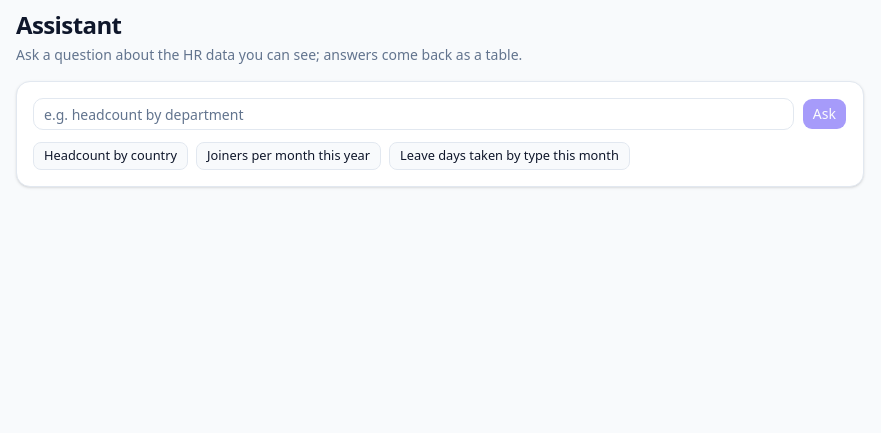
Test: AssistantPage › marks cached and truncated answers
The width and height of the screenshot is (881, 433).
Step 1. Type "headcount by country" into the field named "Question" → (413, 114), box x1=33 y1=98 x2=794 y2=130
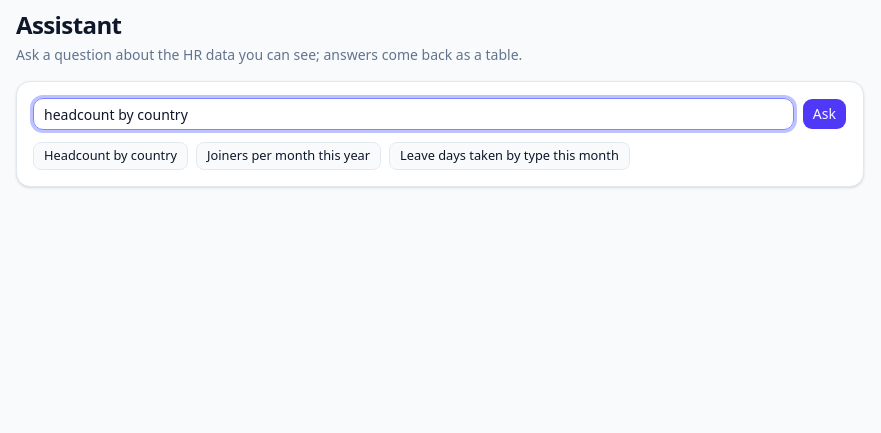
Step 2. Click the button "Ask" → (824, 114), box x1=802 y1=98 x2=847 y2=130
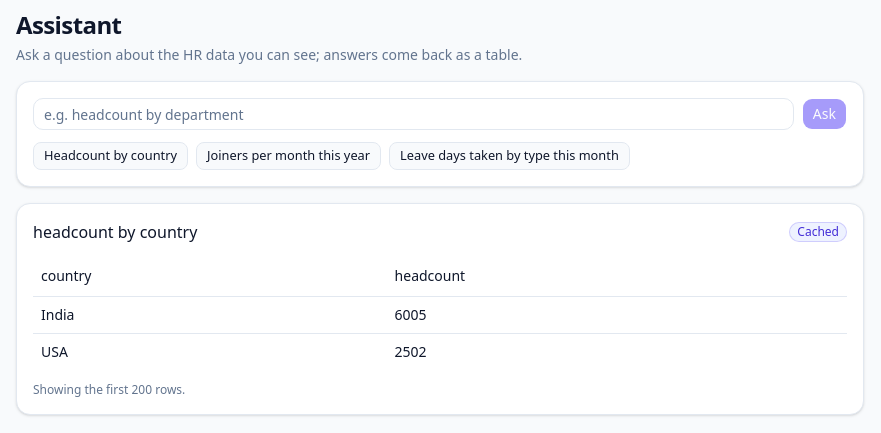
Now the text "Cached" is shown, box x1=789 y1=222 x2=847 y2=242
Now the text "Showing the first 200 rows." is shown, box x1=33 y1=380 x2=185 y2=398
